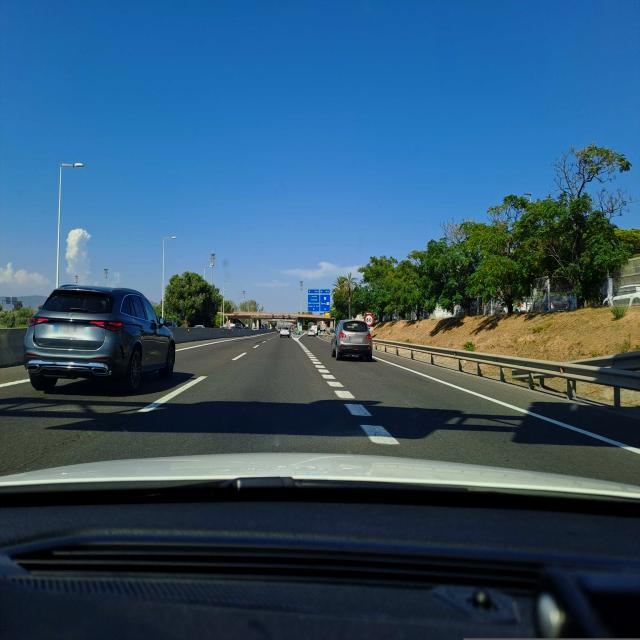car: (23, 282, 176, 394), (330, 318, 373, 361), (602, 283, 640, 307), (527, 294, 570, 315), (279, 325, 291, 338)
